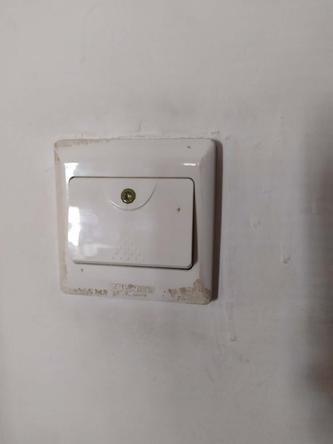switch: (63, 167, 208, 273)
